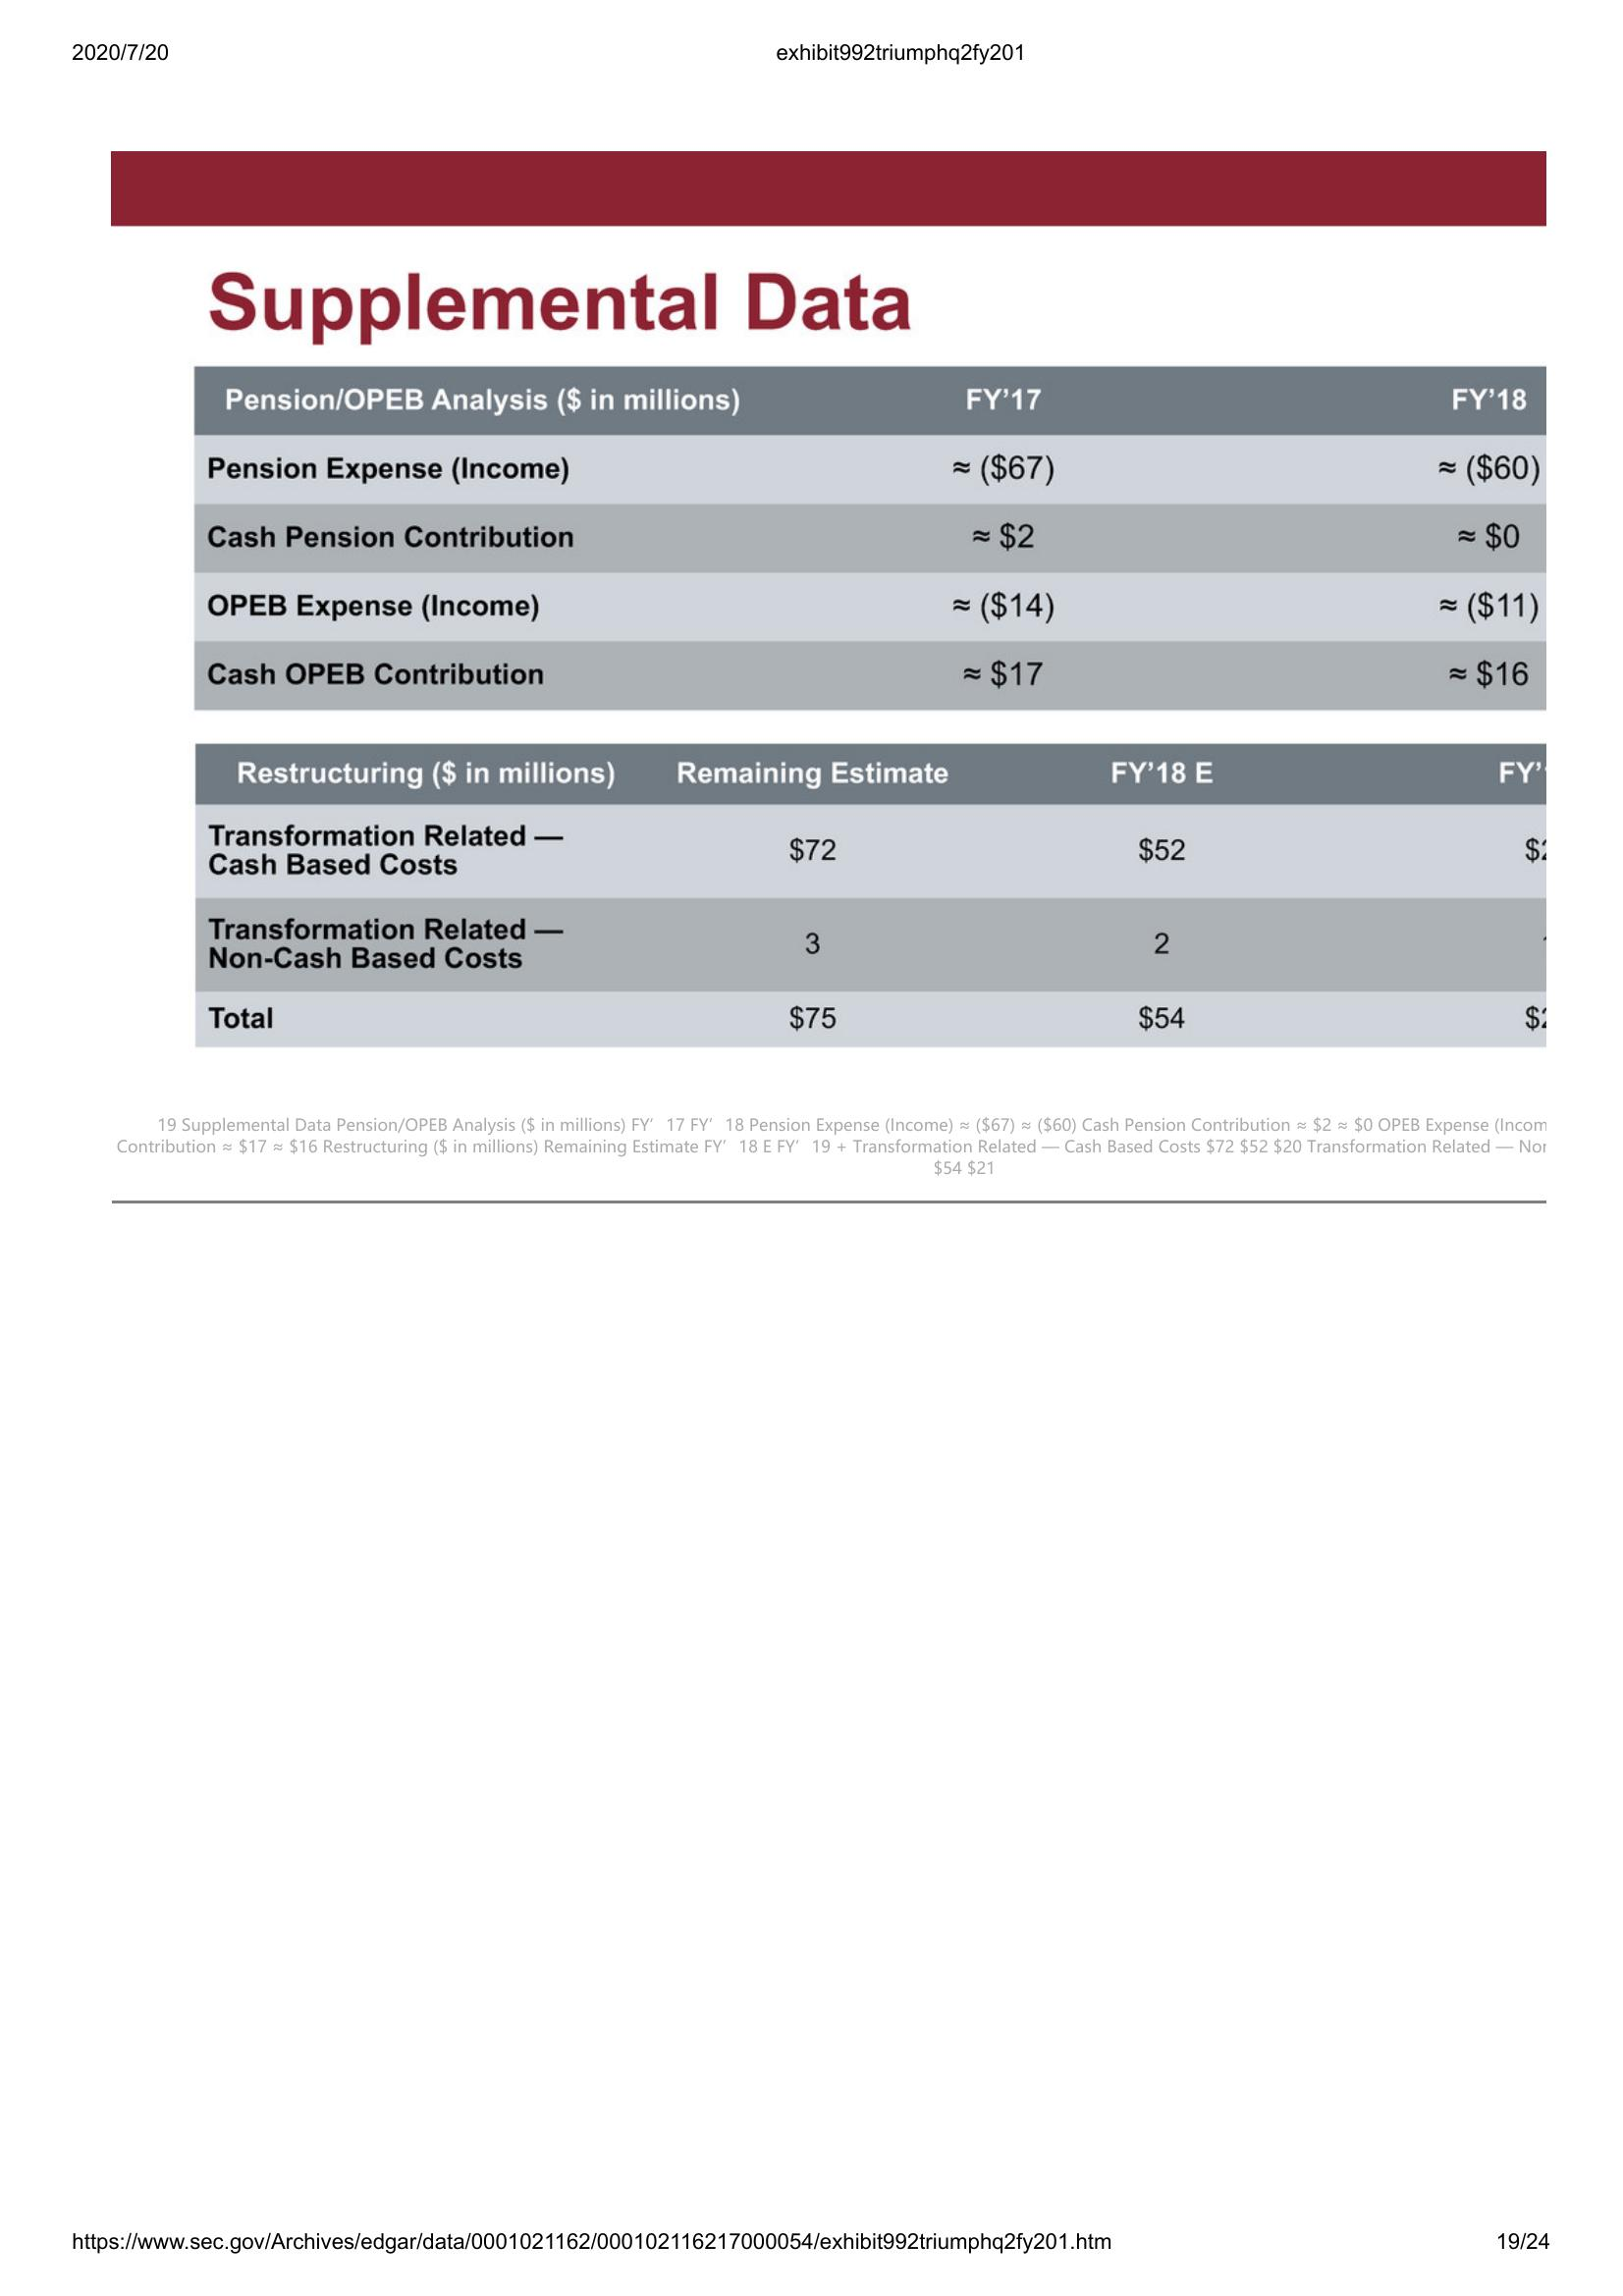table: (190, 360, 1553, 720), (190, 735, 1553, 1053)
